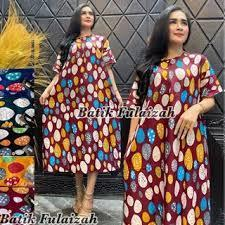dress: (122, 52, 220, 225), (42, 32, 125, 173)
